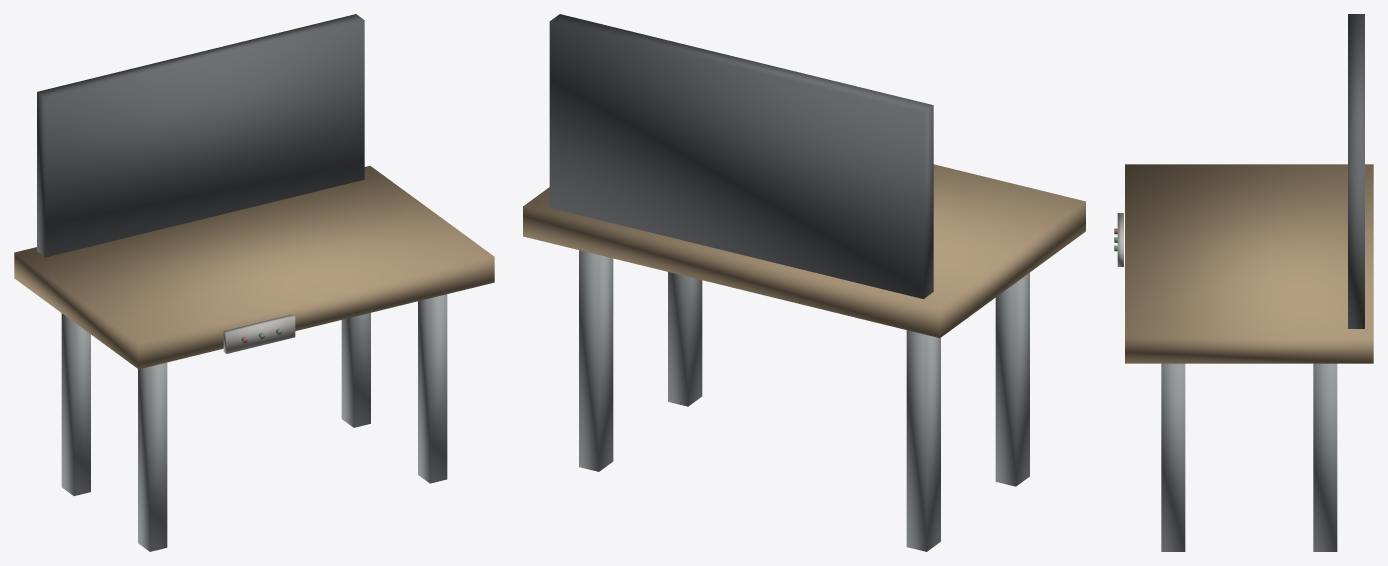
Rendered from basement_workbench__deep.glb.
3 views of the same model, side by side, from view 1: azimuth 30°, elevation 25°; view 2: azimuth 150°, elevation 25°; view 3: azimuth 270°, elevation 25° (orthographic). The views are drawn at different scales.
Visible parts, largest first — view 1: world; view 2: world; view 3: world.
Boxes of the visible parts, x1,y1,x2,y2 form: world: (14, 14, 494, 551); world: (523, 14, 1085, 551); world: (1114, 14, 1373, 551).
Size of the model in its own units: 1.45 by 1.51 by 0.9162.
